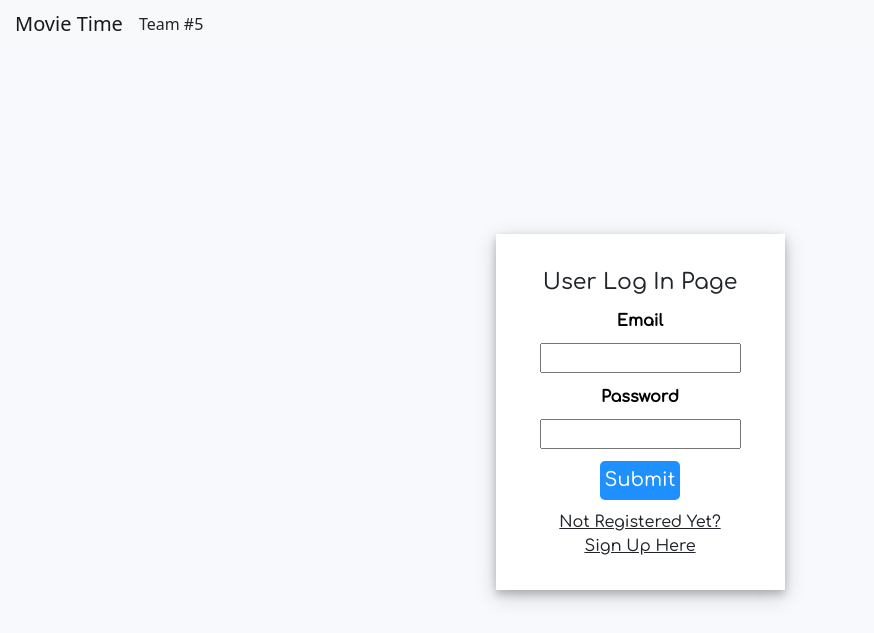
Scenario: user authentication › should set email use flag to true if response status is not 201
Type "test@example.com" into the field labelled "Email".
click(640, 358); type("test@example.com")  # box [540,343,740,373]
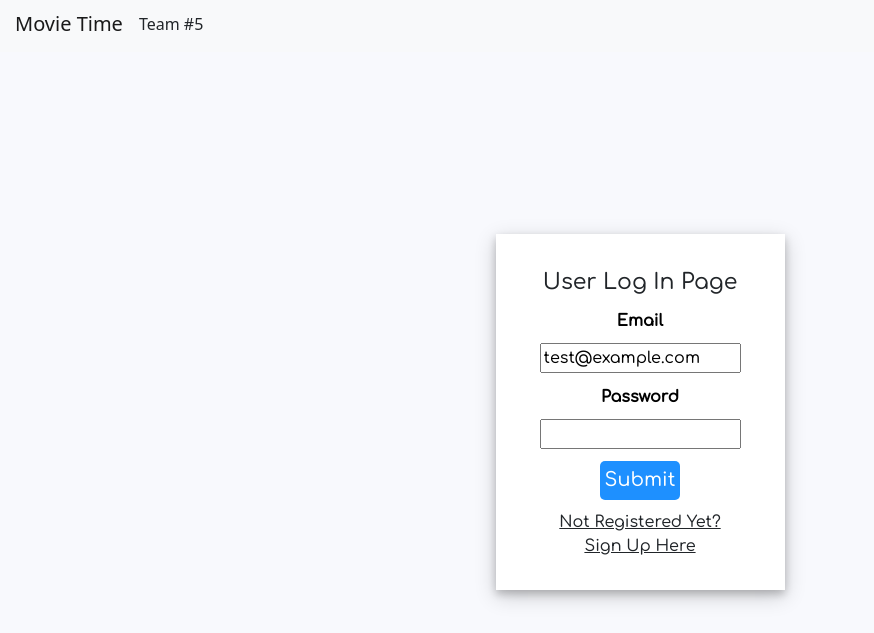
Type "Password1!" into the password field labelled "Password".
click(640, 434); type("Password1!")  # box [540,419,740,449]
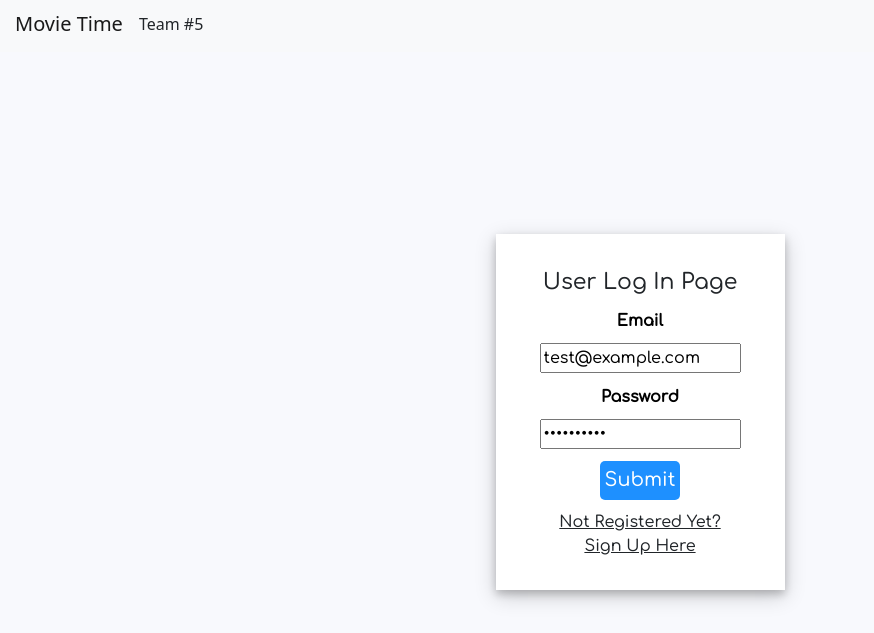
Click the button with test id "submit-button".
click(640, 480)  # box [600,461,680,500]
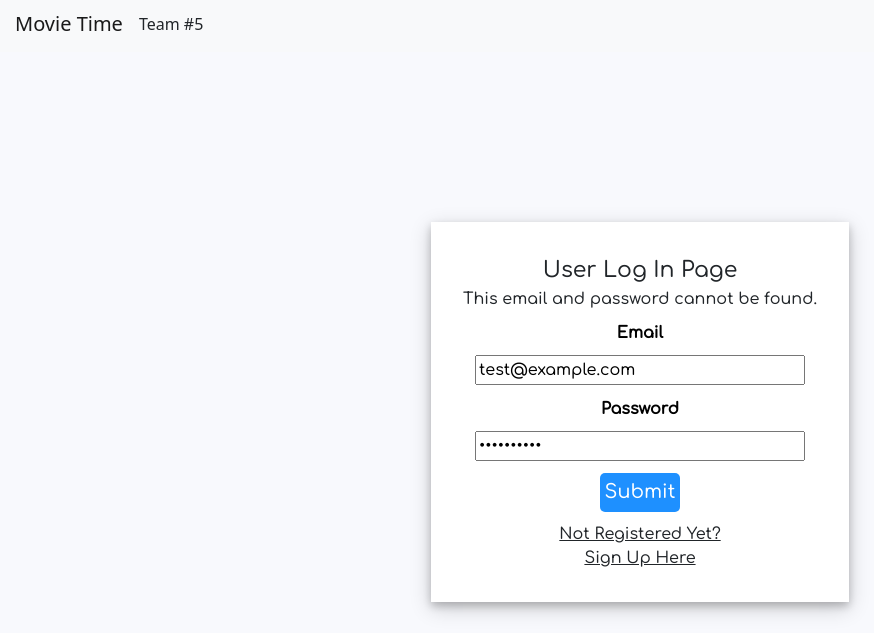
Now the text "This email and password cannot be found." is shown, box [463,287,817,311]
